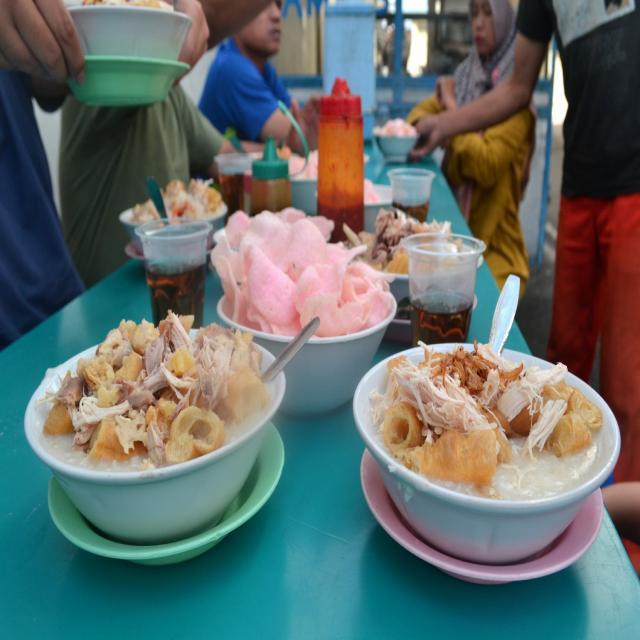bubur ayam: (34, 307, 278, 474), (368, 342, 604, 504)
mangkuk: (352, 342, 620, 564), (20, 323, 286, 543), (214, 231, 398, 419), (255, 290, 397, 418), (64, 3, 192, 108), (119, 184, 228, 246), (372, 119, 419, 160)
